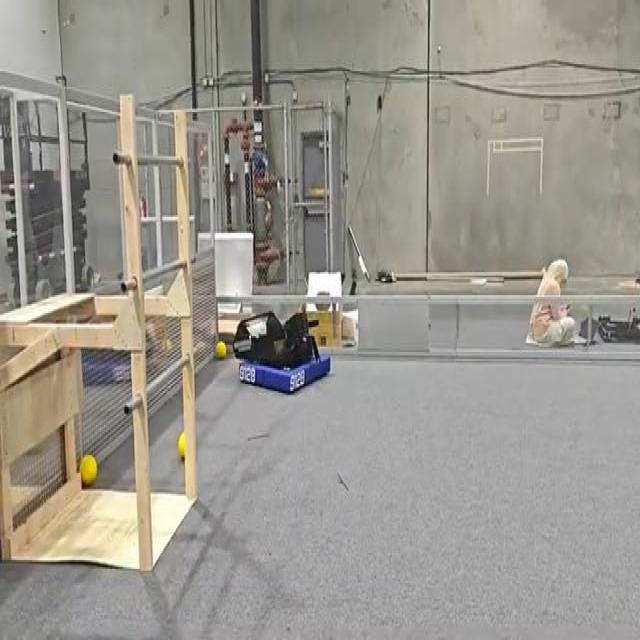Fuel: (79, 455, 97, 485), (177, 432, 184, 459), (215, 341, 226, 358), (178, 432, 185, 458), (215, 342, 226, 358)
